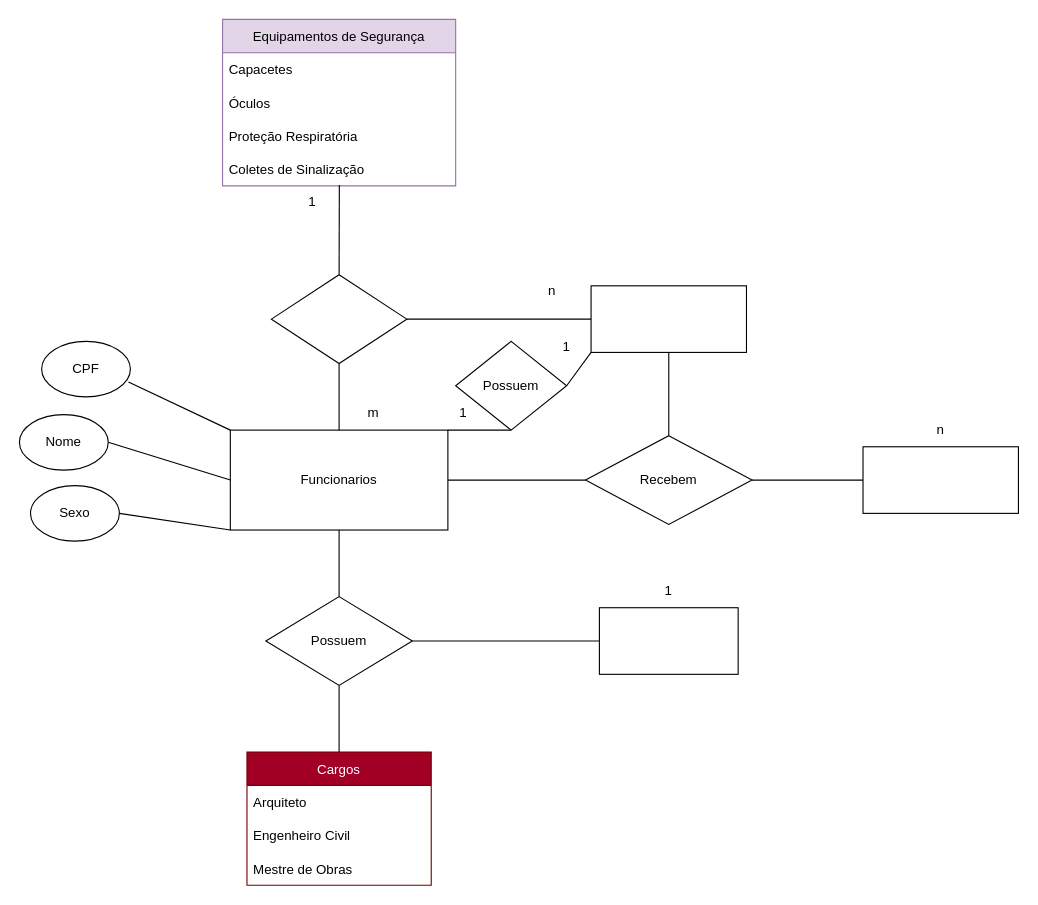
This 1038x905 diagram has some shape labels left out. The shapes that lost their labels are listed below. From the top down, each one's box as (x1, y1, x2, y2) in pixels, then its label:
(270, 274, 407, 364): Utilizam
(590, 285, 746, 352): Dependentes
(862, 446, 1018, 513): Benefícios
(598, 607, 738, 674): Departamentos
